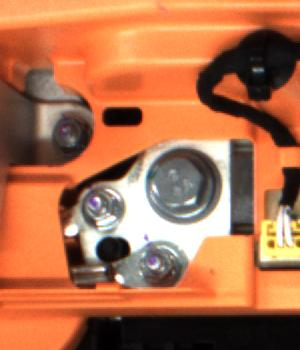nut_b: (145, 146, 234, 227)
screw_s: (79, 184, 128, 238), (131, 241, 182, 290), (46, 117, 89, 157)
